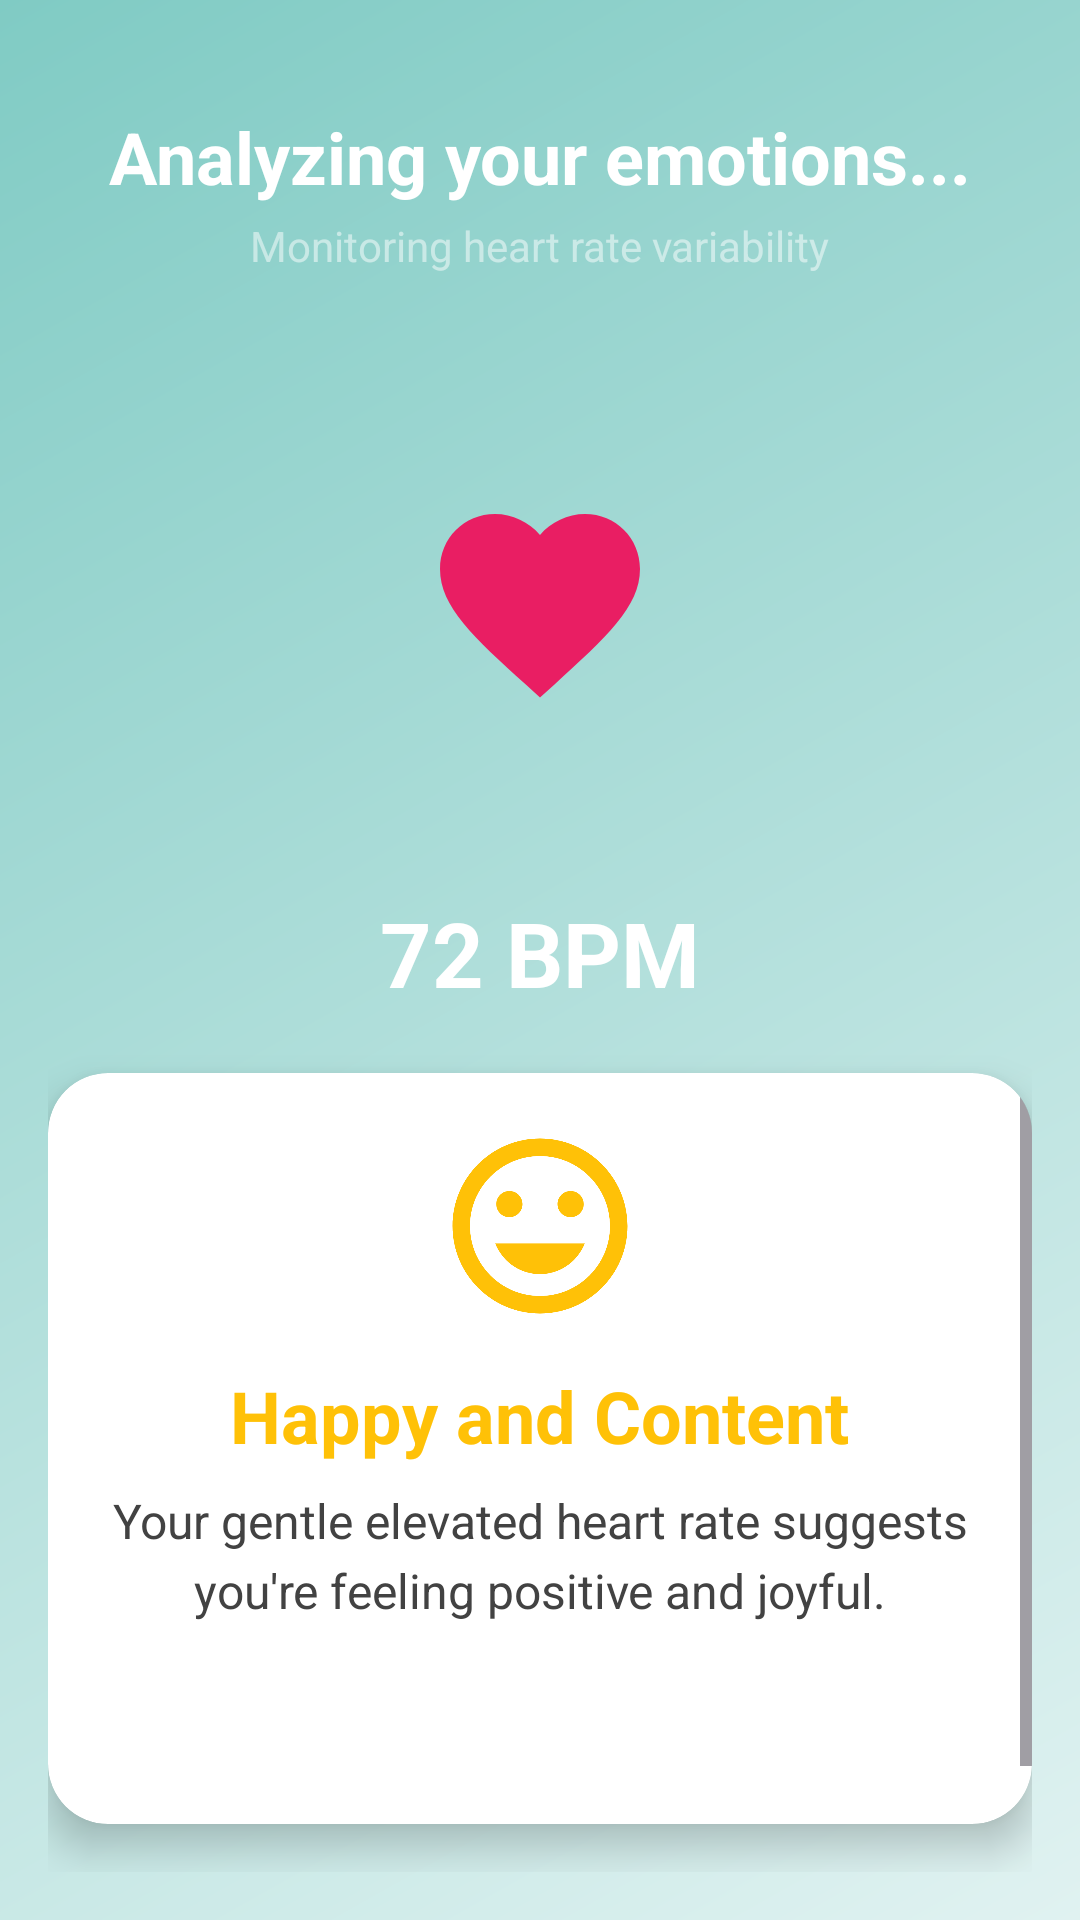

Point at icon controls on the screen. Image size 1080x1920, points as point (x, y).
heart: point (540, 606)
